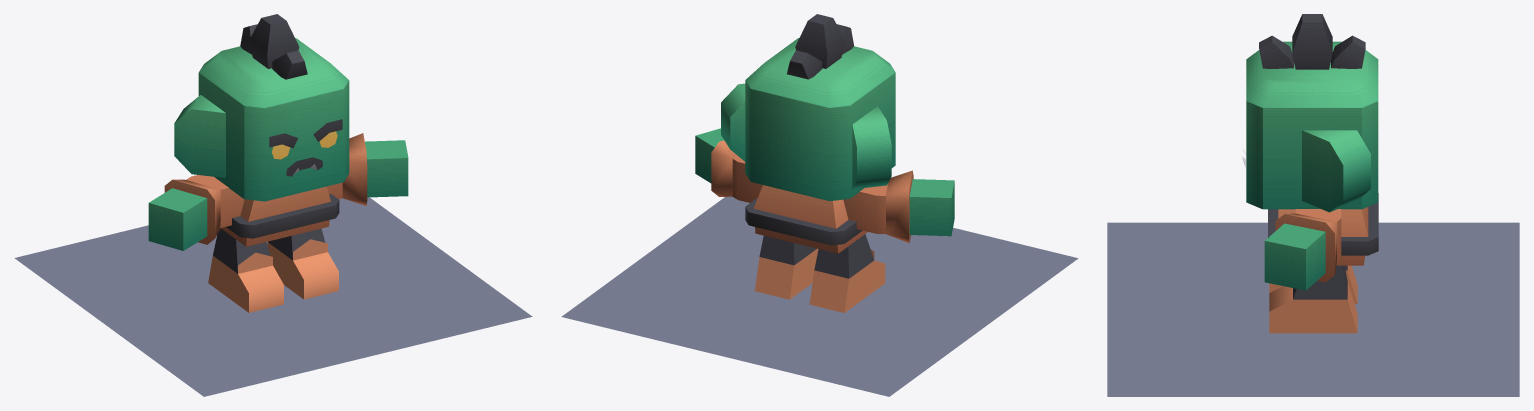
File: floor_enemy.glb
The picture shows the model from 3 angles, left to right: view 1: azimuth 30°, elevation 25°; view 2: azimuth 150°, elevation 25°; view 3: azimuth 270°, elevation 25°; orthographic projection. The views are drawn at different scales.
Visible parts, largest first — view 1: floor; view 2: floor; view 3: floor.
Boxes of the visible parts, bbox=[...] form: floor: bbox=[14, 14, 532, 396]; floor: bbox=[561, 14, 1078, 396]; floor: bbox=[1107, 14, 1519, 396].
Bounding box in the file's own units: 1 × 0.7803 × 1.
2 materials, 2 textured.
